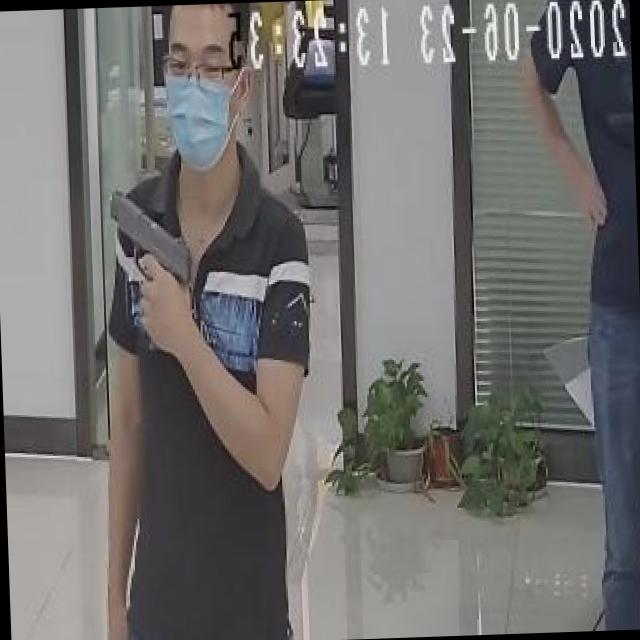Guns: (103, 183, 202, 310)
